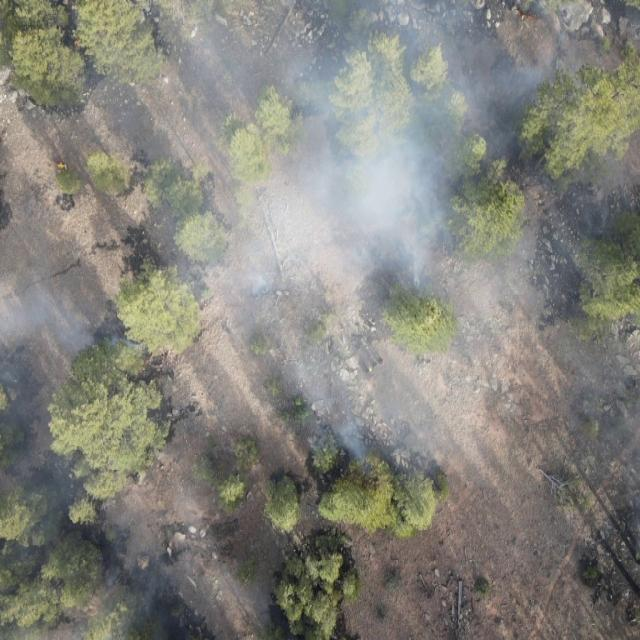fire: (515, 7, 537, 25), (70, 39, 82, 51)
smoke: (142, 0, 550, 465), (538, 129, 640, 489), (0, 247, 107, 374)
